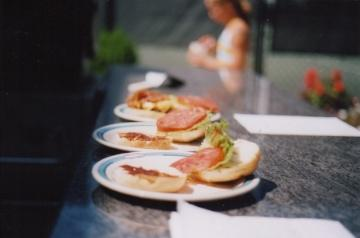lettuce: (156, 111, 216, 136), (206, 121, 234, 170)
tomato: (169, 146, 223, 174), (156, 106, 207, 132), (177, 95, 218, 112), (146, 94, 170, 102)
